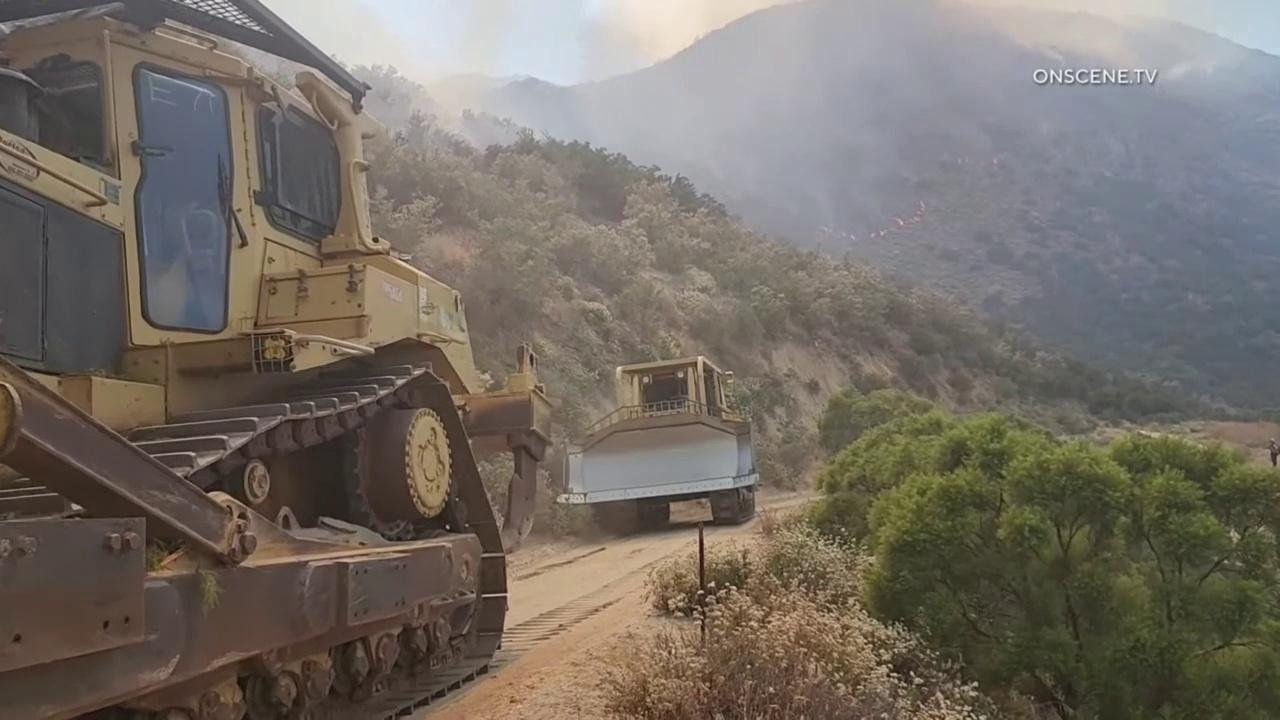fire: (909, 199, 929, 224), (819, 225, 834, 233), (895, 217, 904, 226), (879, 229, 889, 237), (849, 233, 856, 241), (870, 232, 876, 240), (956, 156, 961, 165), (992, 159, 998, 166)
smoke: (228, 0, 1280, 266)
